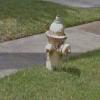Hydrant: (39, 8, 76, 70)
